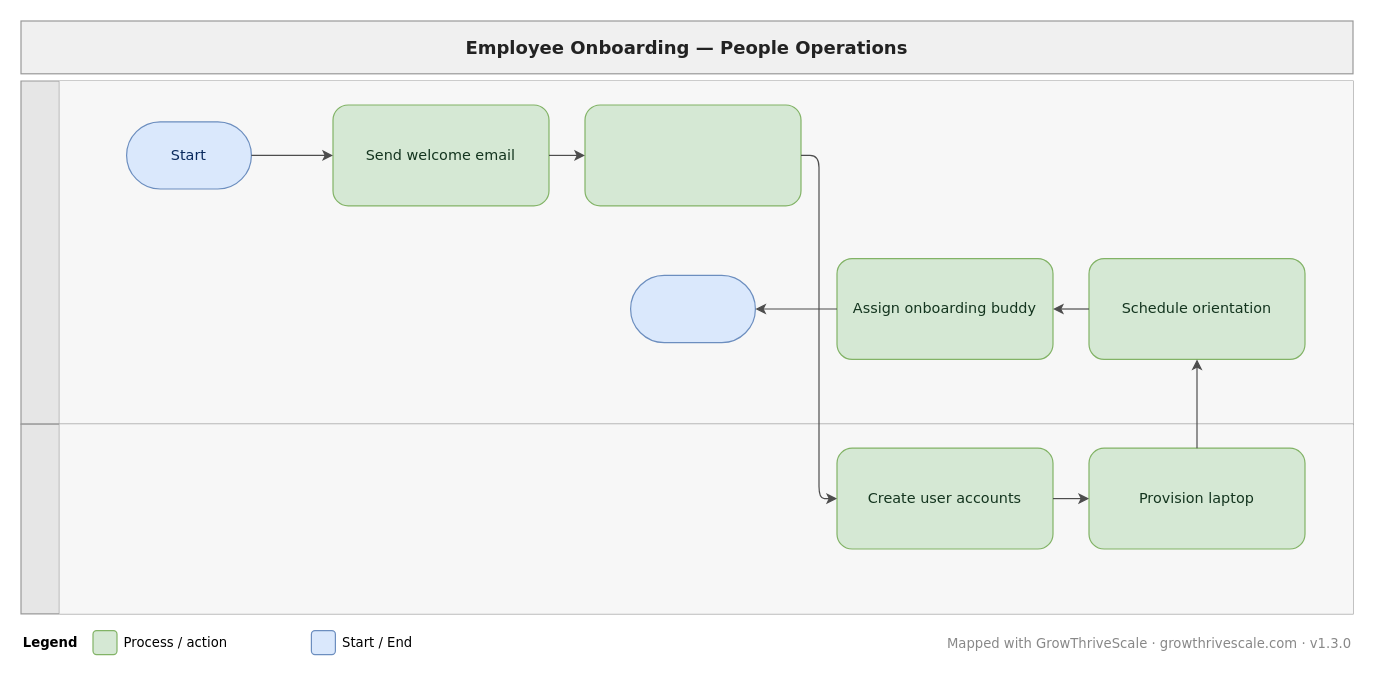
This 1374x678 diagram has some shape labels left out. The box of each missing label's shape, as (x1, y1, x2, y2) in pixels:
Collect signed documents: (584, 104, 801, 206)
HR Coordinator: (20, 80, 1353, 424)
IT Support: (20, 423, 1353, 614)
Onboarding complete: (629, 274, 755, 343)
